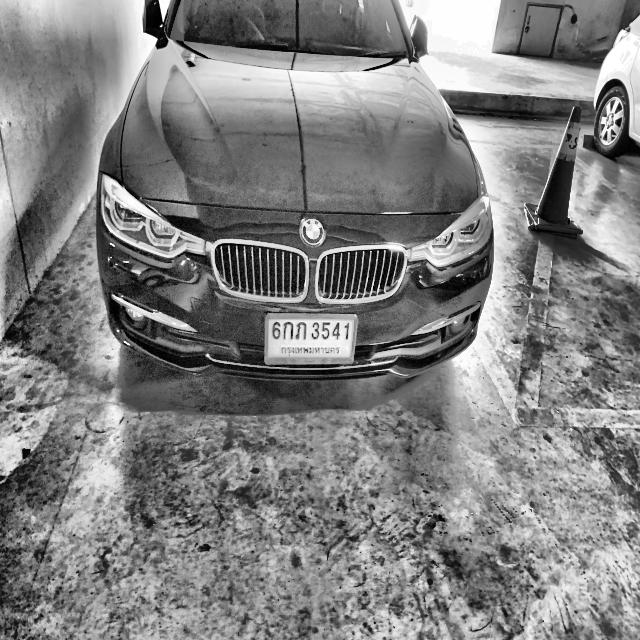license-plate: (264, 307, 356, 368)
